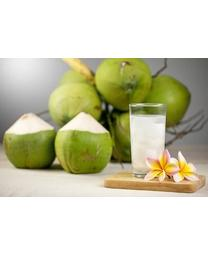coconut: (54, 111, 112, 174), (4, 112, 58, 170), (138, 73, 192, 127), (95, 59, 150, 110), (48, 82, 102, 127)
